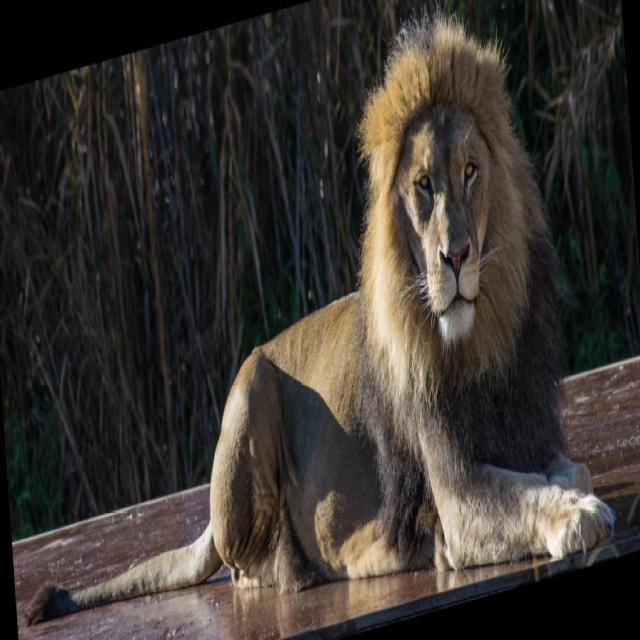Lion: (0, 0, 614, 638)
